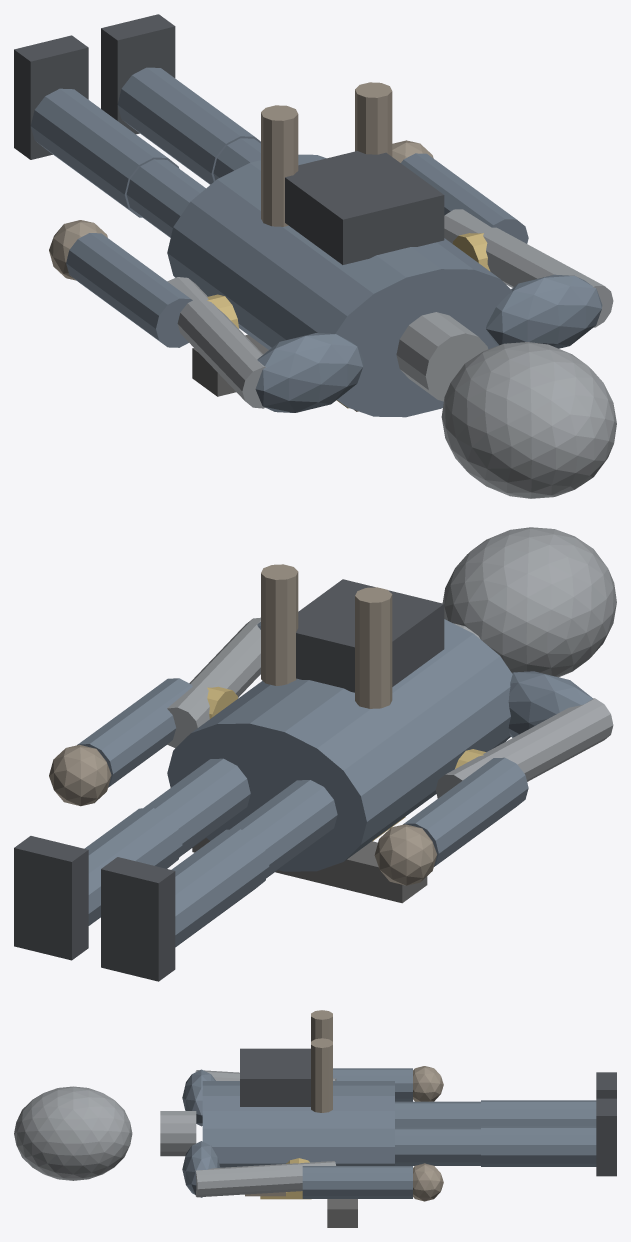
The model's file is SWN-031_rhys_ironvale.glb.
The picture shows the model from 3 angles, top to bottom: view 1: azimuth 30°, elevation 25°; view 2: azimuth 150°, elevation 25°; view 3: azimuth 270°, elevation 25°; orthographic projection. The views are drawn at different scales.
Visible parts, largest first — view 1: body_spine, head, back_thruster_pack, greave_-1, greave_1, forearm_gauntlet_-1, shoulder_plate_-1, shoulder_plate_1, boot_-1, upper_arm_-1, boot_1, neck (+9 smaller); view 2: body_spine, head, back_thruster_pack, boot_-1, boot_1, greave_-1, forearm_gauntlet_-1, upper_arm_-1, thigh_1, thigh_-1, forearm_gauntlet_1, greave_1 (+8 smaller); view 3: body_spine, head, greave_1, back_thruster_pack, forearm_gauntlet_1, thigh_1, upper_arm_1, greave_-1, thigh_-1, boot_1, aether_thruster_1, neck (+8 smaller).
Part boxes in pixels (x1=…): body_spine: x1=167, y1=154, x2=511, y2=417; head: x1=441, y1=342, x2=616, y2=498; back_thruster_pack: x1=285, y1=151, x2=444, y2=264; greave_-1: x1=30, y1=88, x2=179, y2=217; greave_1: x1=117, y1=67, x2=260, y2=184; forearm_gauntlet_-1: x1=66, y1=233, x2=192, y2=347; shoulder_plate_-1: x1=255, y1=333, x2=363, y2=412; shoulder_plate_1: x1=486, y1=274, x2=602, y2=348; boot_-1: x1=14, y1=35, x2=88, y2=159; upper_arm_-1: x1=167, y1=277, x2=265, y2=408; boot_1: x1=101, y1=14, x2=175, y2=134; neck: x1=396, y1=312, x2=487, y2=401; body_spine: x1=167, y1=619, x2=512, y2=871; head: x1=442, y1=527, x2=616, y2=677; back_thruster_pack: x1=296, y1=579, x2=444, y2=692; boot_-1: x1=101, y1=857, x2=175, y2=981; boot_1: x1=14, y1=836, x2=88, y2=960; greave_-1: x1=171, y1=829, x2=269, y2=947; forearm_gauntlet_-1: x1=403, y1=757, x2=528, y2=866; upper_arm_-1: x1=435, y1=698, x2=613, y2=798; thigh_1: x1=143, y1=758, x2=250, y2=856; thigh_-1: x1=230, y1=780, x2=337, y2=877; forearm_gauntlet_1: x1=77, y1=678, x2=192, y2=787; greave_1: x1=84, y1=808, x2=182, y2=925; body_spine: x1=202, y1=1081, x2=394, y2=1167; head: x1=14, y1=1086, x2=132, y2=1180; greave_1: x1=481, y1=1126, x2=596, y2=1166; back_thruster_pack: x1=240, y1=1048, x2=310, y2=1106; forearm_gauntlet_1: x1=302, y1=1166, x2=412, y2=1198; thigh_1: x1=395, y1=1127, x2=480, y2=1165; upper_arm_1: x1=195, y1=1161, x2=335, y2=1197; greave_-1: x1=481, y1=1100, x2=596, y2=1126; thigh_-1: x1=395, y1=1101, x2=480, y2=1127; boot_1: x1=596, y1=1098, x2=616, y2=1176; aether_thruster_1: x1=311, y1=1038, x2=332, y2=1112; neck: x1=160, y1=1111, x2=196, y2=1156.
Size of the model in its own units: 1.05 by 0.72 by 2.35.
